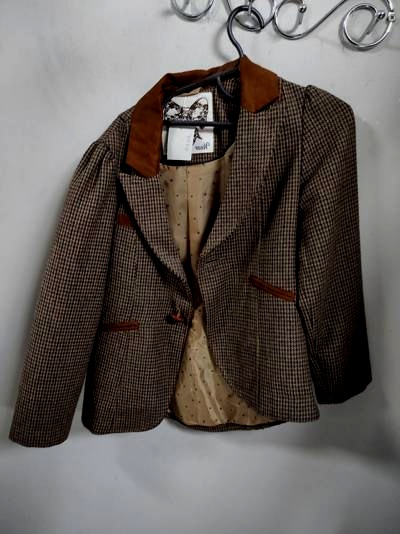Blazer: (11, 67, 382, 464)
